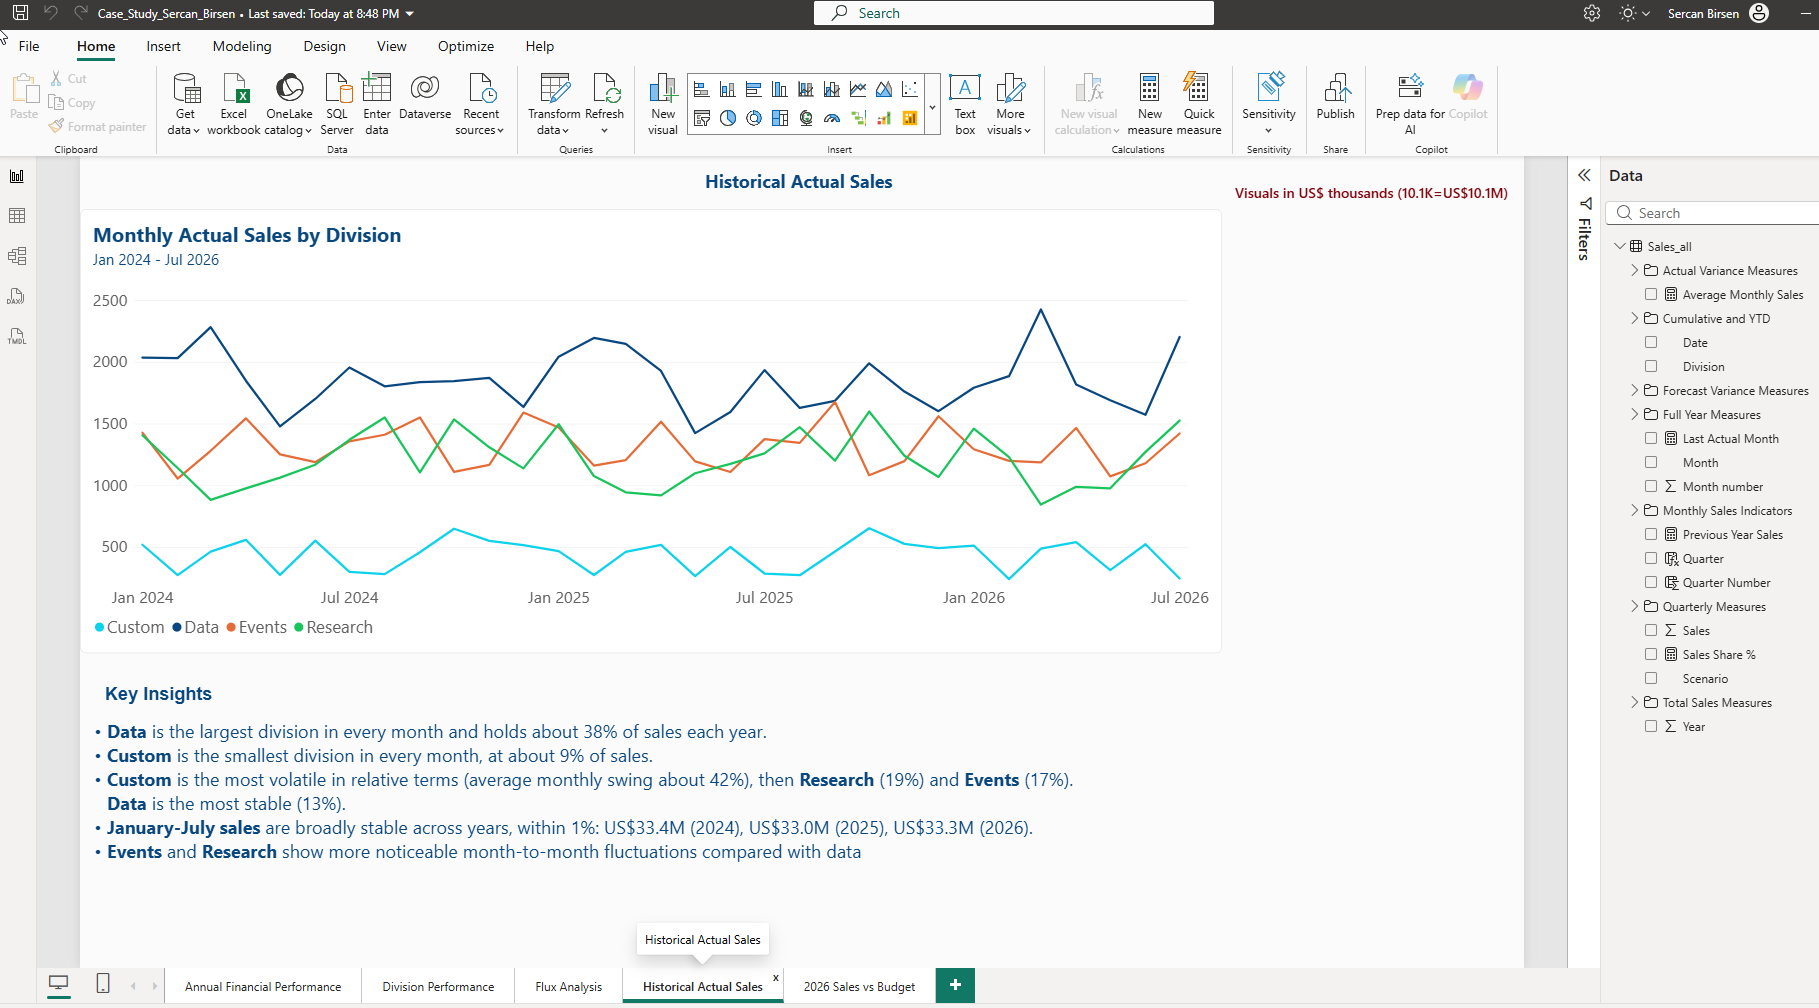

The page's visual inventory and layout, read from the dashboard file:
{"tool":"powerbi","page":{"name":"Historical Actual Sales","canvas":[1920,1080],"ordinal":3},"visuals":[{"type":"lineChart","title":"Monthly Actual Sales by Division","fields":{"Category":["Sales_all.Date"],"Series":["Sales_all.Division"],"Y":["Sales_all.Total Actual Sales"]},"box":[0,70,1518.6,591.4],"z":0},{"type":"textbox","box":[1535.7,35.7,365.7,34.3],"z":1000},{"type":"textbox","box":[0,701.4,1358.6,302.9],"z":2000},{"type":"textbox","box":[831.4,15.7,255.7,40],"z":4000}]}

Visuals, with their boxes on the page's 1920x1080 design canvas (x1, y1, x2, y2). These are canvas units, not pixel positions in the 1819x1008 screenshot, which may show the page scaled, cropped or inside an application window:
"Monthly Actual Sales by Division" lineChart: bbox(0, 70, 1519, 661)
textbox: bbox(1536, 36, 1901, 70)
textbox: bbox(0, 701, 1359, 1004)
textbox: bbox(831, 16, 1087, 56)
